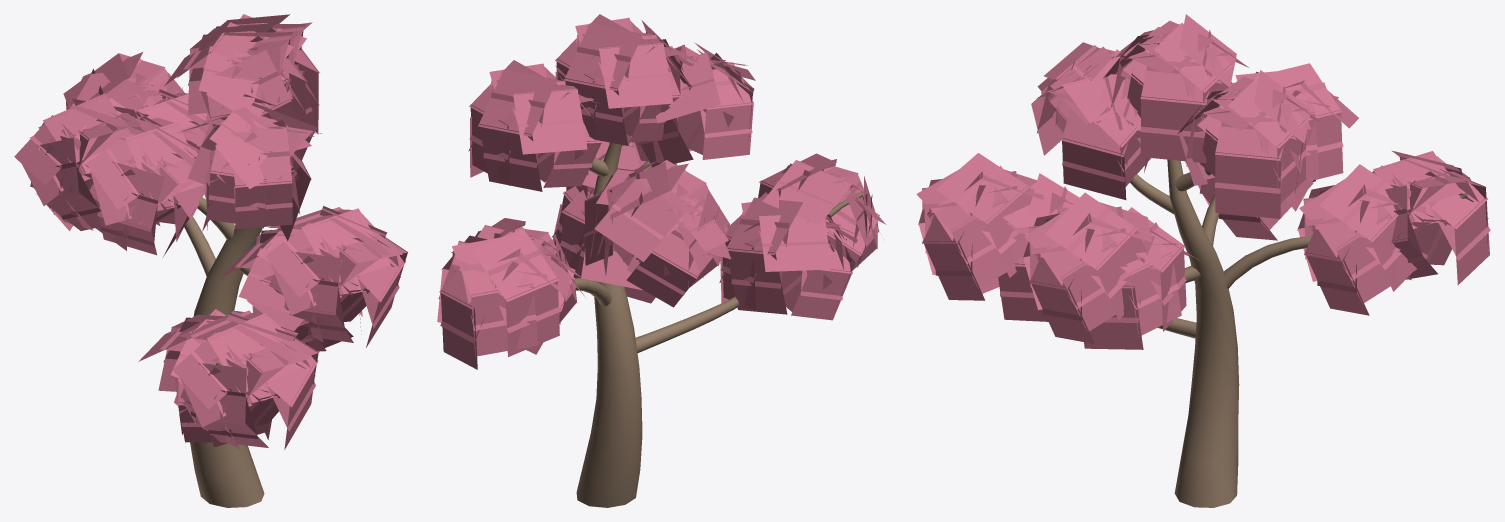
The model's file is tree1sketchfab.fbx.
The picture shows the model from 3 angles, left to right: view 1: azimuth 30°, elevation 25°; view 2: azimuth 150°, elevation 25°; view 3: azimuth 270°, elevation 25°; orthographic projection. The views are drawn at different scales.
Parts seen in each view (by area): view 1: leaves, tronco, branches; view 2: leaves, tronco, branches; view 3: leaves, tronco, branches.
Boxes of the visible parts, box(x1,y1,x2,y2) form: leaves: box(14, 14, 408, 449); tronco: box(190, 227, 264, 507); branches: box(184, 196, 250, 365); leaves: box(437, 14, 886, 369); tronco: box(576, 142, 642, 507); branches: box(574, 158, 862, 352); leaves: box(916, 14, 1490, 349); tronco: box(1167, 159, 1239, 507); branches: box(1042, 168, 1467, 338).
Bounding box in the file's own units: 262 × 436 × 485.
